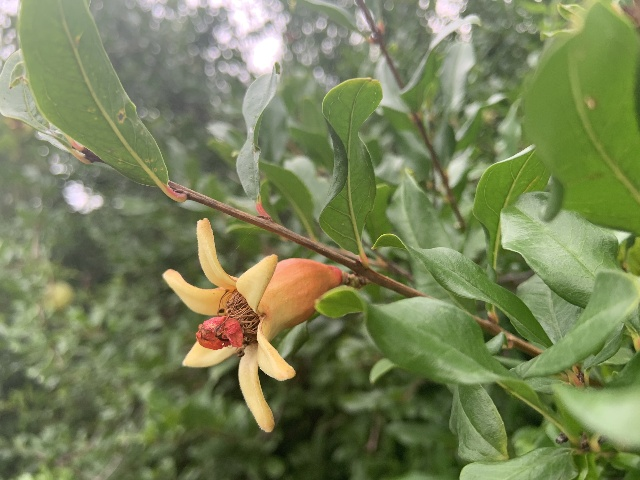early-fruit: (162, 217, 342, 433)
